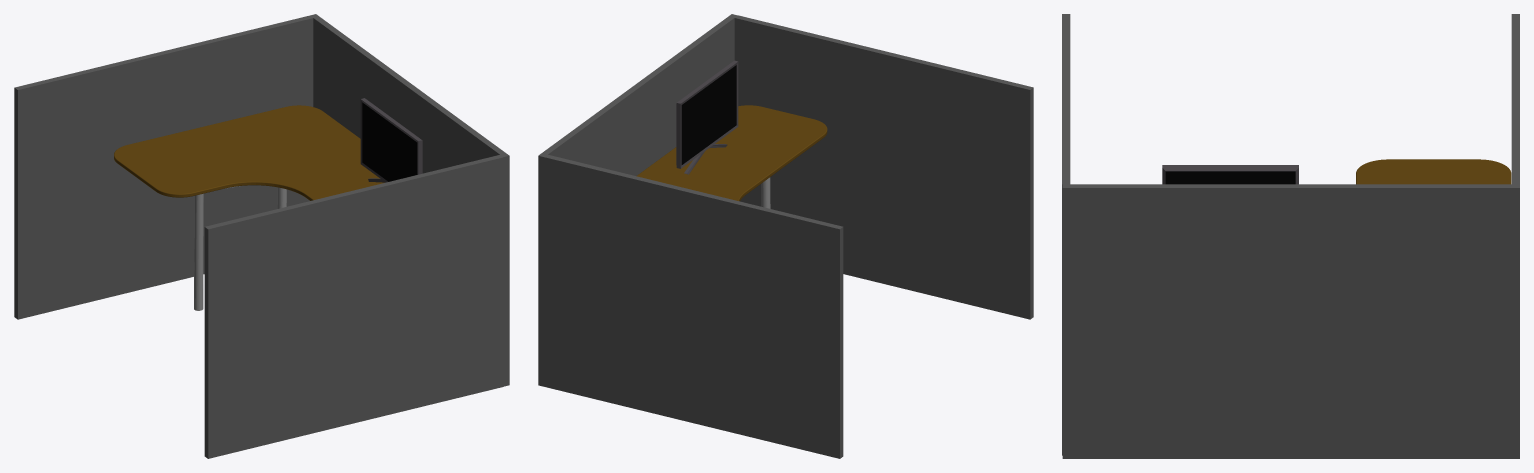
Rendered from cublicle furnished.fbx.
3 views of the same model, side by side, from view 1: azimuth 30°, elevation 25°; view 2: azimuth 150°, elevation 25°; view 3: azimuth 270°, elevation 25° (orthographic). The views are drawn at different scales.
Visible parts, largest first — view 1: Cube.001, table-top, Cube.002, Plane, leg.001; view 2: Cube.001, Cube.002, table-top, Plane; view 3: Cube.002, table-top, Cube.001, Plane.
Part boxes in pixels (left/top/right/bottom): Cube.001: left=14, top=15, right=503, bottom=458; table-top: left=114, top=105, right=384, bottom=200; Cube.002: left=310, top=14, right=509, bottom=386; Plane: left=360, top=98, right=422, bottom=182; leg.001: left=194, top=193, right=203, bottom=310; Cube.001: left=544, top=15, right=1033, bottom=458; Cube.002: left=538, top=14, right=737, bottom=386; table-top: left=636, top=105, right=827, bottom=201; Plane: left=676, top=60, right=738, bottom=174; Cube.002: left=1062, top=184, right=1519, bottom=458; table-top: left=1356, top=159, right=1511, bottom=184; Cube.001: left=1062, top=14, right=1519, bottom=455; Plane: left=1162, top=165, right=1298, bottom=184.
Size of the model in its own units: 188 by 137 by 209.
